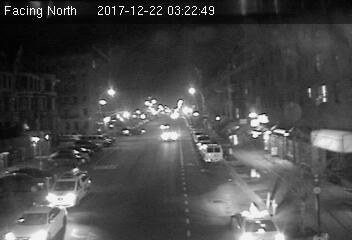car: (229, 202, 288, 240), (47, 167, 93, 208), (160, 130, 177, 142)
truck: (202, 143, 222, 163)
